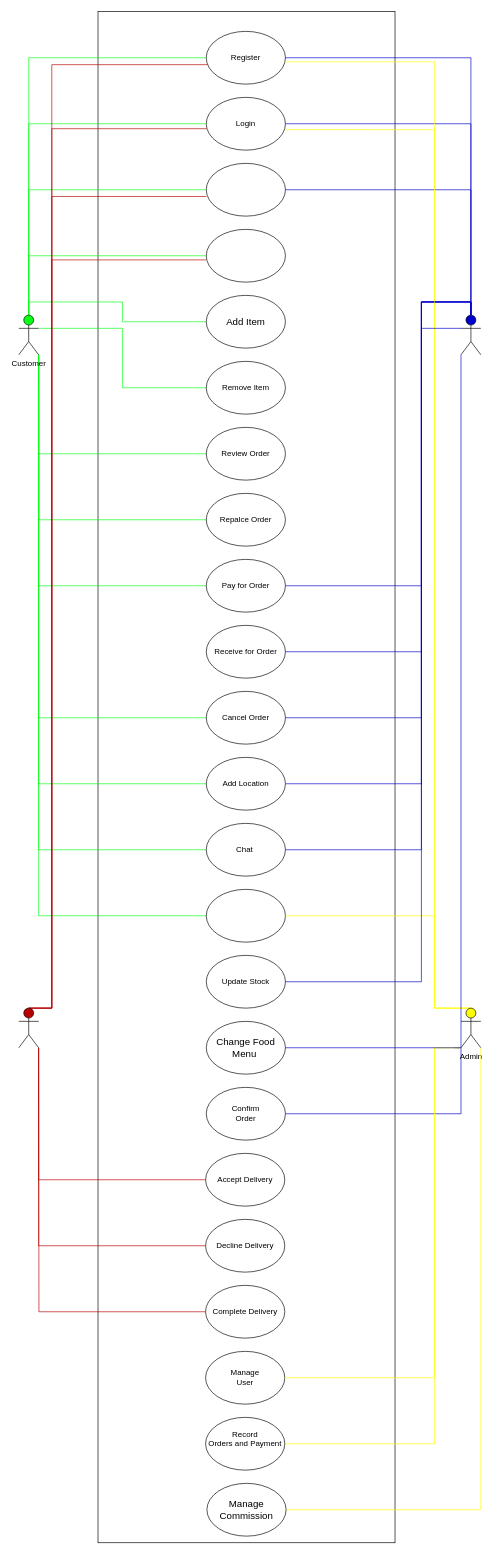
The diagram is 502 pixels wide and 1554 high, and some of its shapes have lost their labels. The centre of each missing label's shape, as x and y in pixels:
"Edit Profile" belongs at pixel 245 189.
"Promotion" belongs at pixel 245 915.
"Restaurant" belongs at pixel 470 334.
"Rider" belongs at pixel 28 1027.
"SMS" belongs at pixel 245 255.
